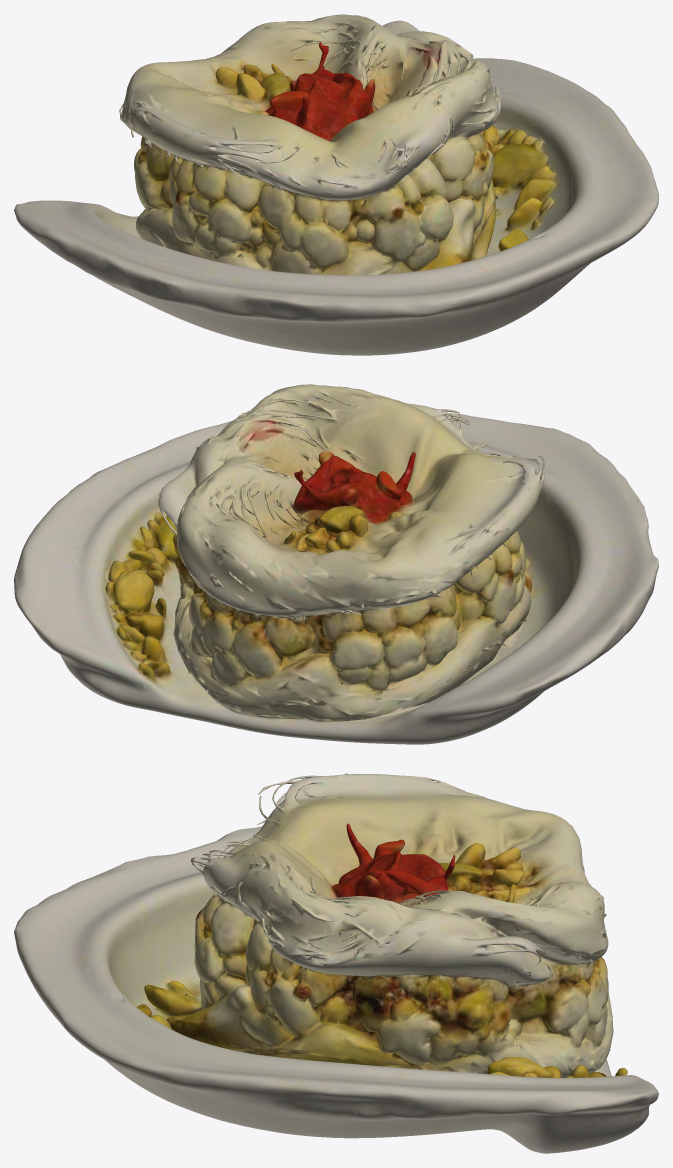
Rendered from plato-postre.glb.
The picture shows the model from 3 angles, top to bottom: view 1: azimuth 30°, elevation 25°; view 2: azimuth 150°, elevation 25°; view 3: azimuth 270°, elevation 25°; orthographic projection. The views are drawn at different scales.
Visible parts, largest first — view 1: tripo_node_42157041-7cbc-4327-9d59-2af55ccb707f; view 2: tripo_node_42157041-7cbc-4327-9d59-2af55ccb707f; view 3: tripo_node_42157041-7cbc-4327-9d59-2af55ccb707f.
Boxes of the visible parts, box(x1,y1,x2,y2) form: tripo_node_42157041-7cbc-4327-9d59-2af55ccb707f: box(14, 14, 658, 355); tripo_node_42157041-7cbc-4327-9d59-2af55ccb707f: box(14, 384, 658, 744); tripo_node_42157041-7cbc-4327-9d59-2af55ccb707f: box(14, 773, 658, 1153).
Bounding box in the file's own units: 0.9794 × 0.3807 × 0.9219.
Materials: 1 (1 with a texture image).
